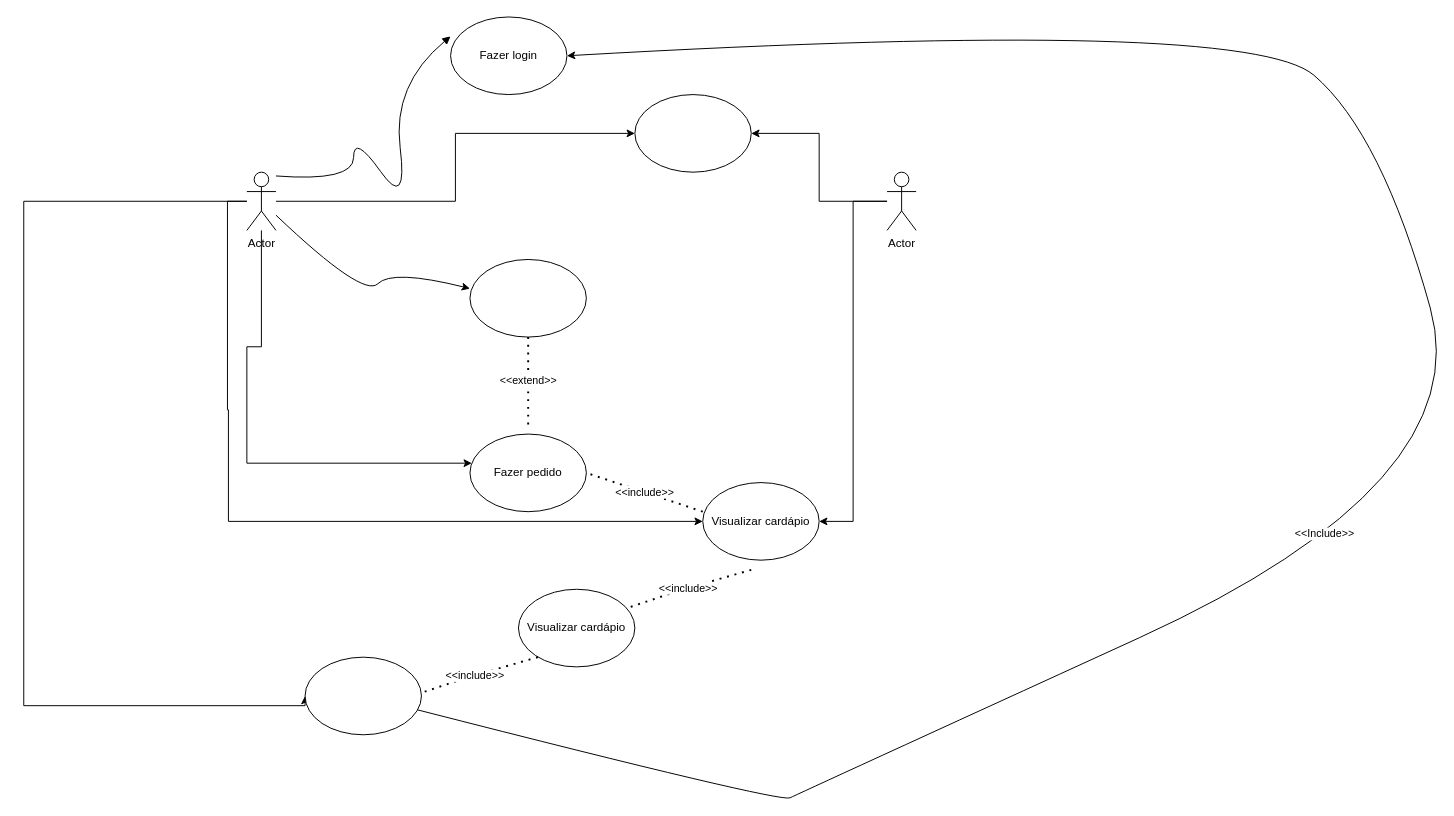
Image size: 1454x816. Some labels were removed from this diagram. Here are the shapes that lost their labels. From the top down, the centre of each, then its label:
[692,133]: Acompanhar pedido
[527,298]: Cancelar pedido
[362,695]: Buscar restaurante
